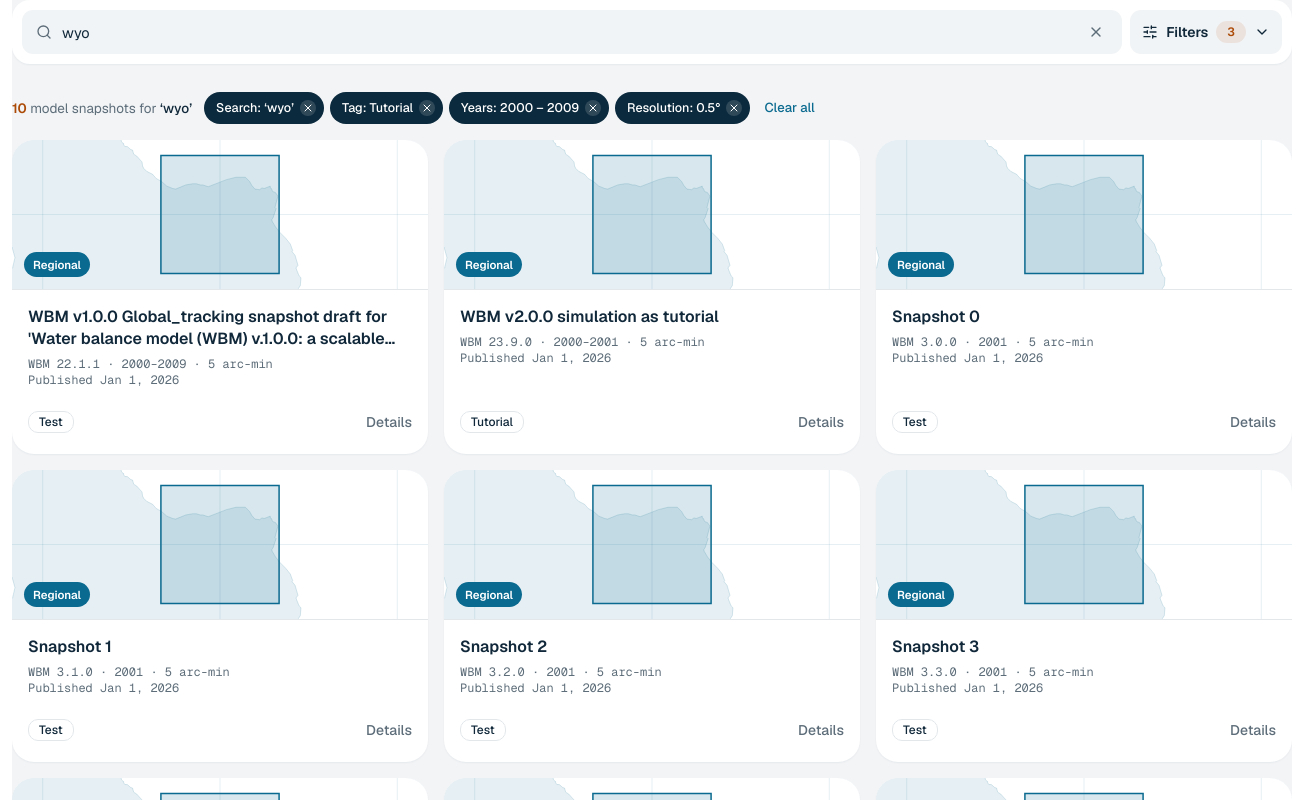
Scenario: filtering › offers Clear all only while something narrows the list, and it clears the search and every filter
Click the button "Clear all" at (790, 108), box [756,92,823,124]
Wait 300 ms
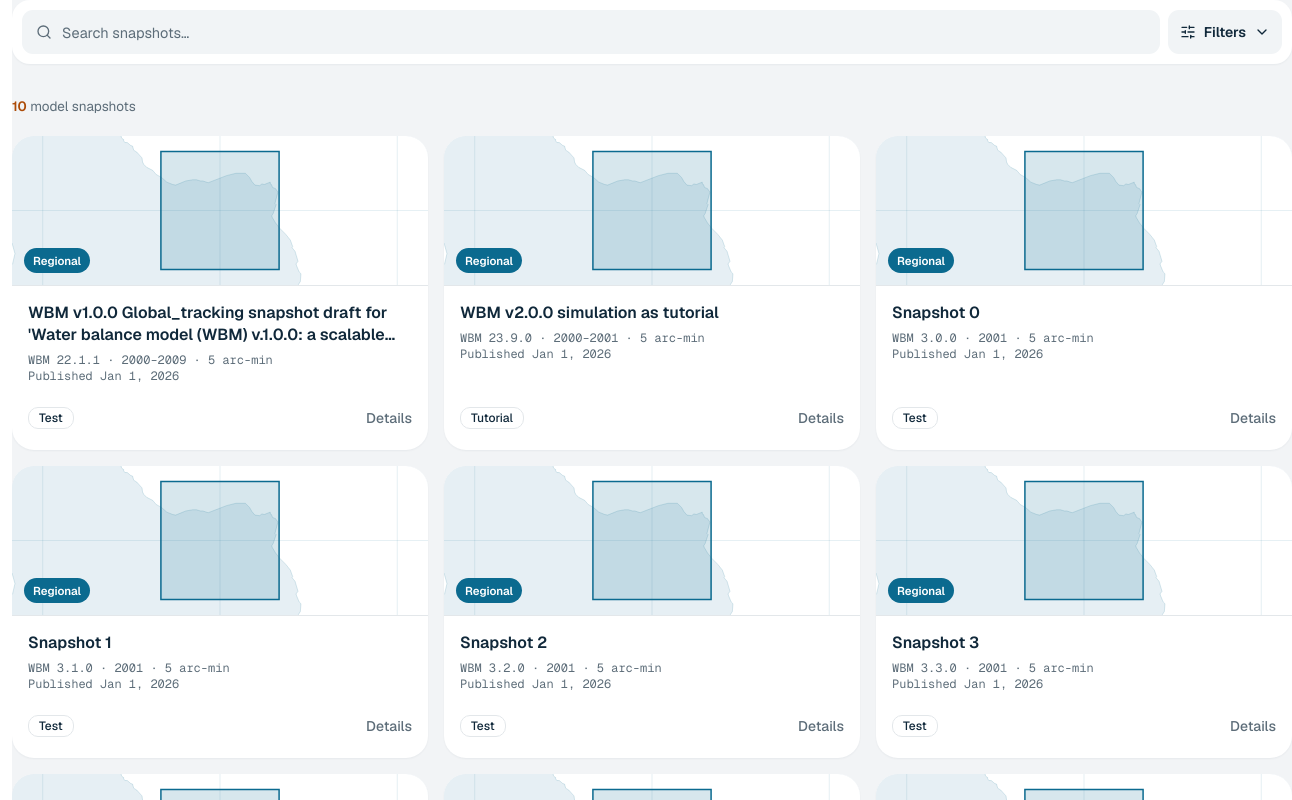
Expected: the search field is empty, [62,10,1146,54]
Expected: the button "Filters" is shown, [1168,10,1282,54]
Expected: the button "Clear all" is gone
